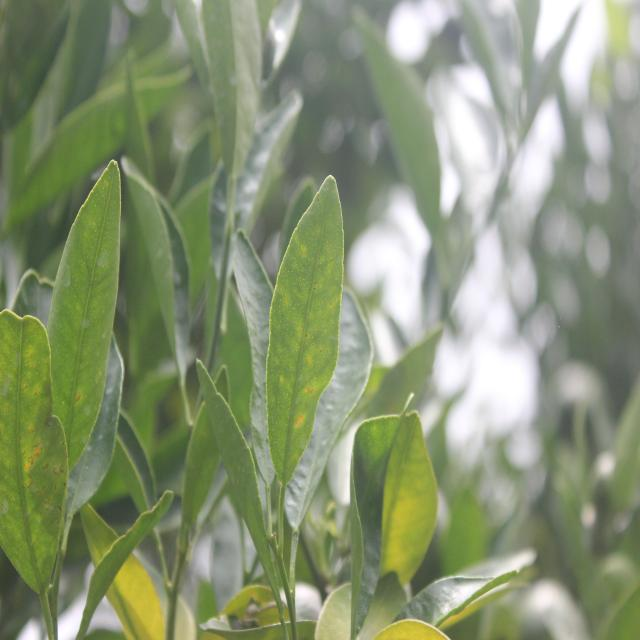canker: (262, 193, 348, 466), (0, 315, 74, 575)
